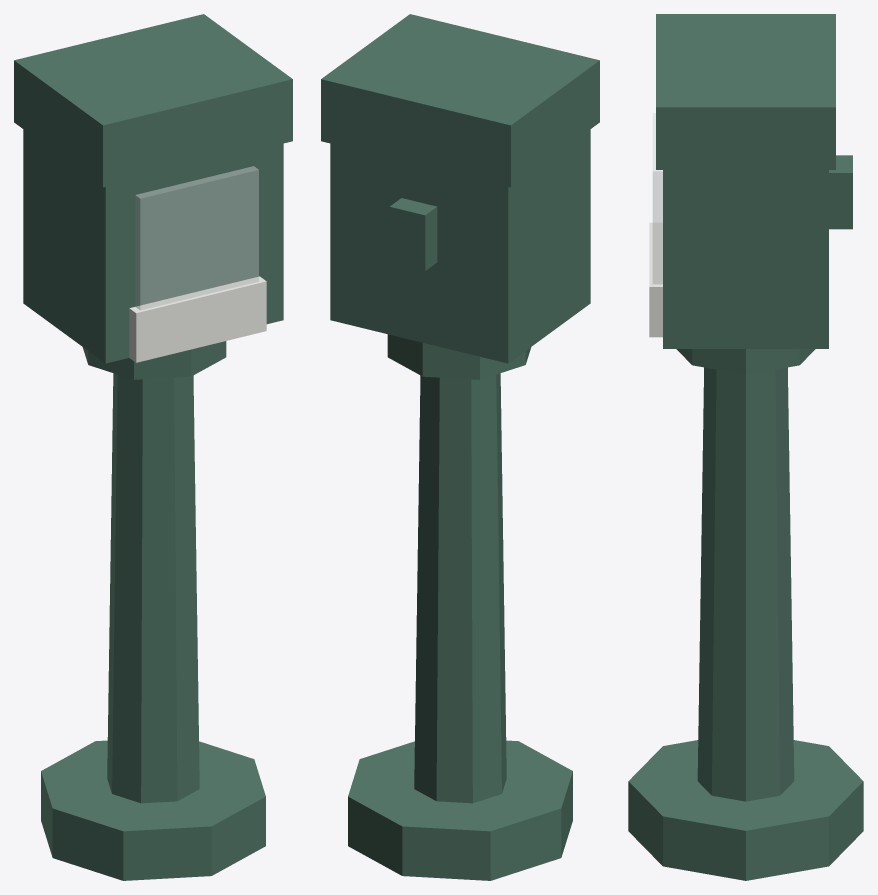
The model's file is botanical-glasshouse-and-palm-house-botanical-glasshou-4eb136f8__38562.glb.
3 renders of one model, left to right at view 1: azimuth 30°, elevation 25°; view 2: azimuth 150°, elevation 25°; view 3: azimuth 270°, elevation 25°, orthographic.
Parts seen in each view (by area): view 1: botanical-glasshouse-and-palm-house-donation-box; view 2: botanical-glasshouse-and-palm-house-donation-box; view 3: botanical-glasshouse-and-palm-house-donation-box.
Boxes of the visible parts, x1,y1,x2,y2 form: botanical-glasshouse-and-palm-house-donation-box: (14,14,292,880); botanical-glasshouse-and-palm-house-donation-box: (321,14,599,880); botanical-glasshouse-and-palm-house-donation-box: (628,14,863,880).
Size of the model in its own units: 0.34 by 1.23 by 0.34.
